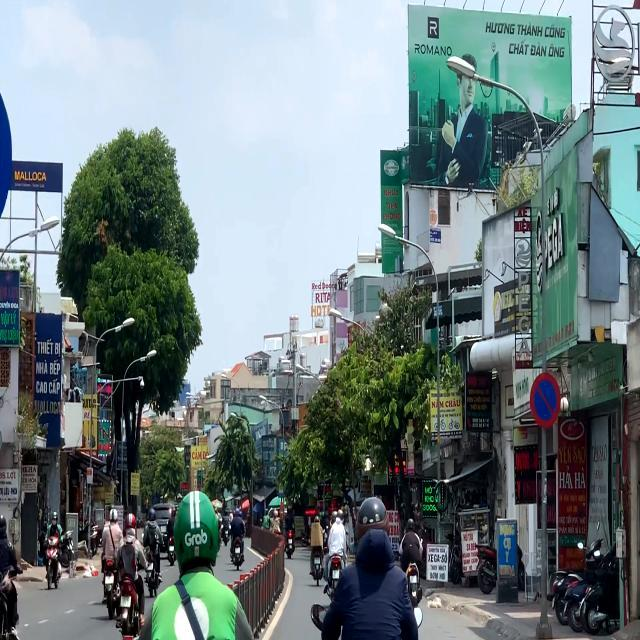Cam do xe: (529, 371, 562, 430)
